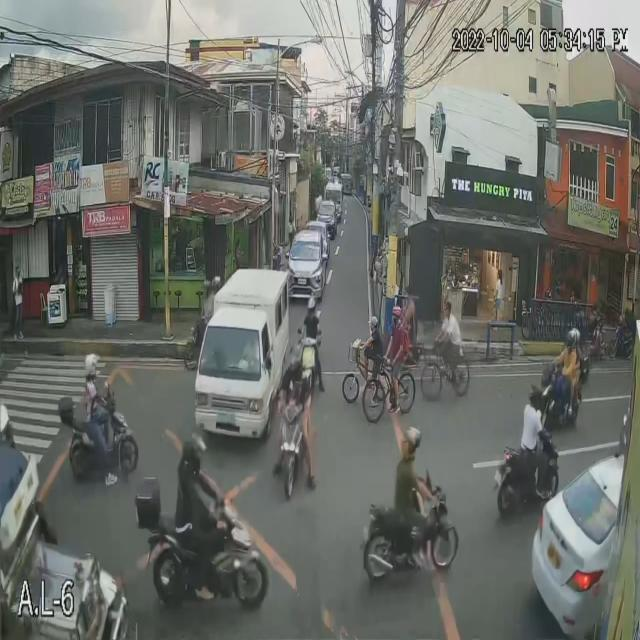full: (182, 435, 206, 473)
half: (400, 424, 423, 460), (84, 352, 102, 380), (565, 328, 576, 349)
